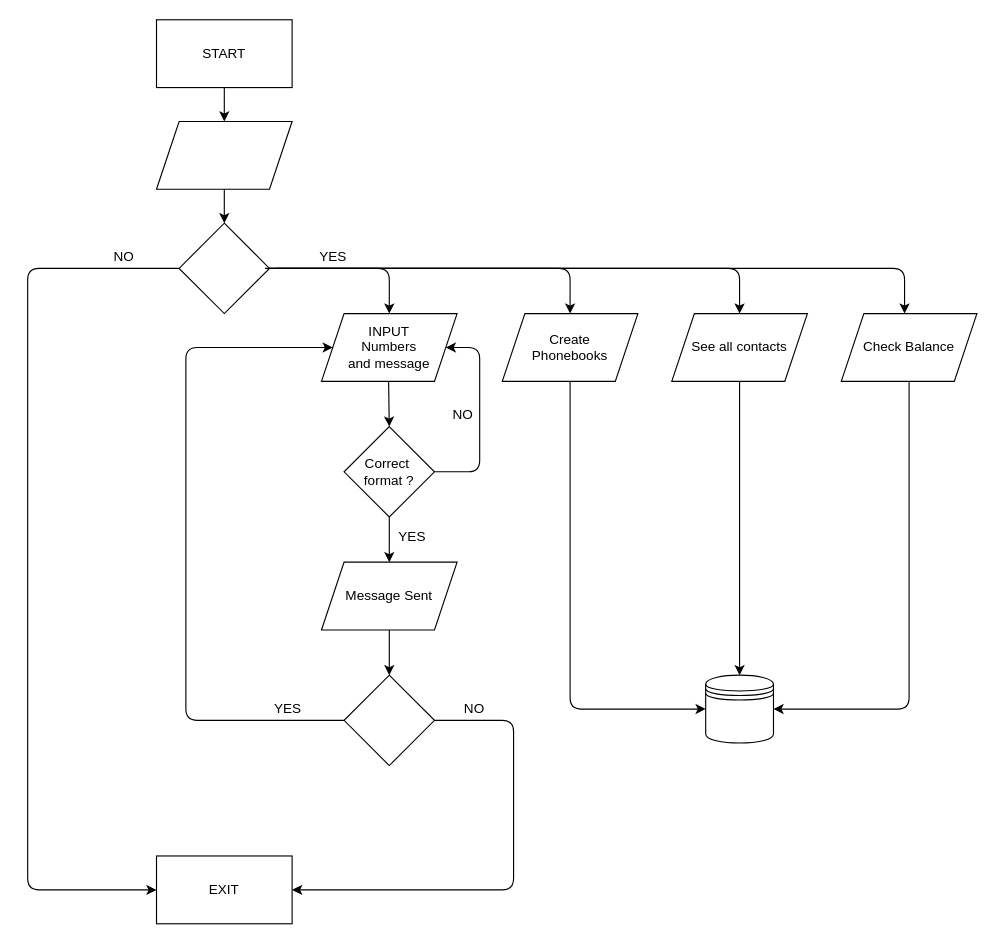
Image size: 997x944. Some labels were removed from this diagram. Here are the shapes that lost their labels. From the top down, the box of each, then its label:
(155, 120, 292, 189): INPUT Login Details
(178, 222, 270, 314): Login Success
(343, 674, 434, 766): Want to send more ?
(705, 674, 773, 743): Database
